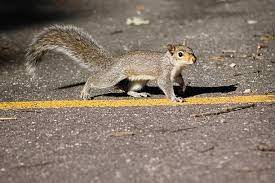squirrel: (32, 24, 199, 100)
